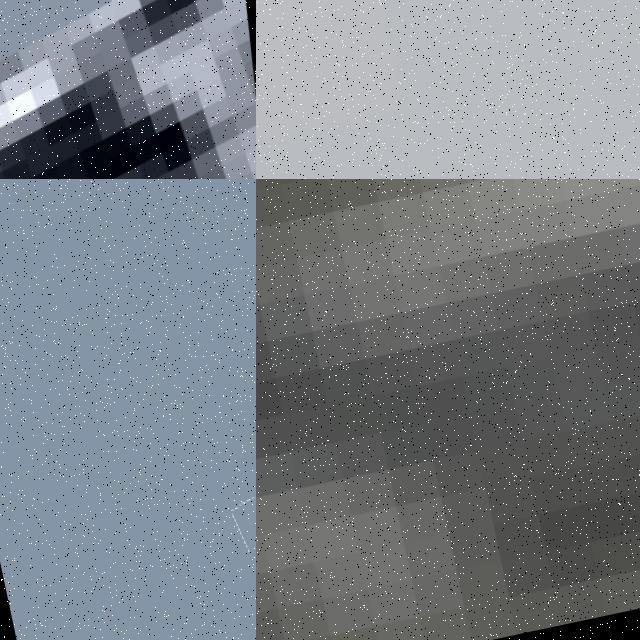drone: (0, 0, 256, 179)
